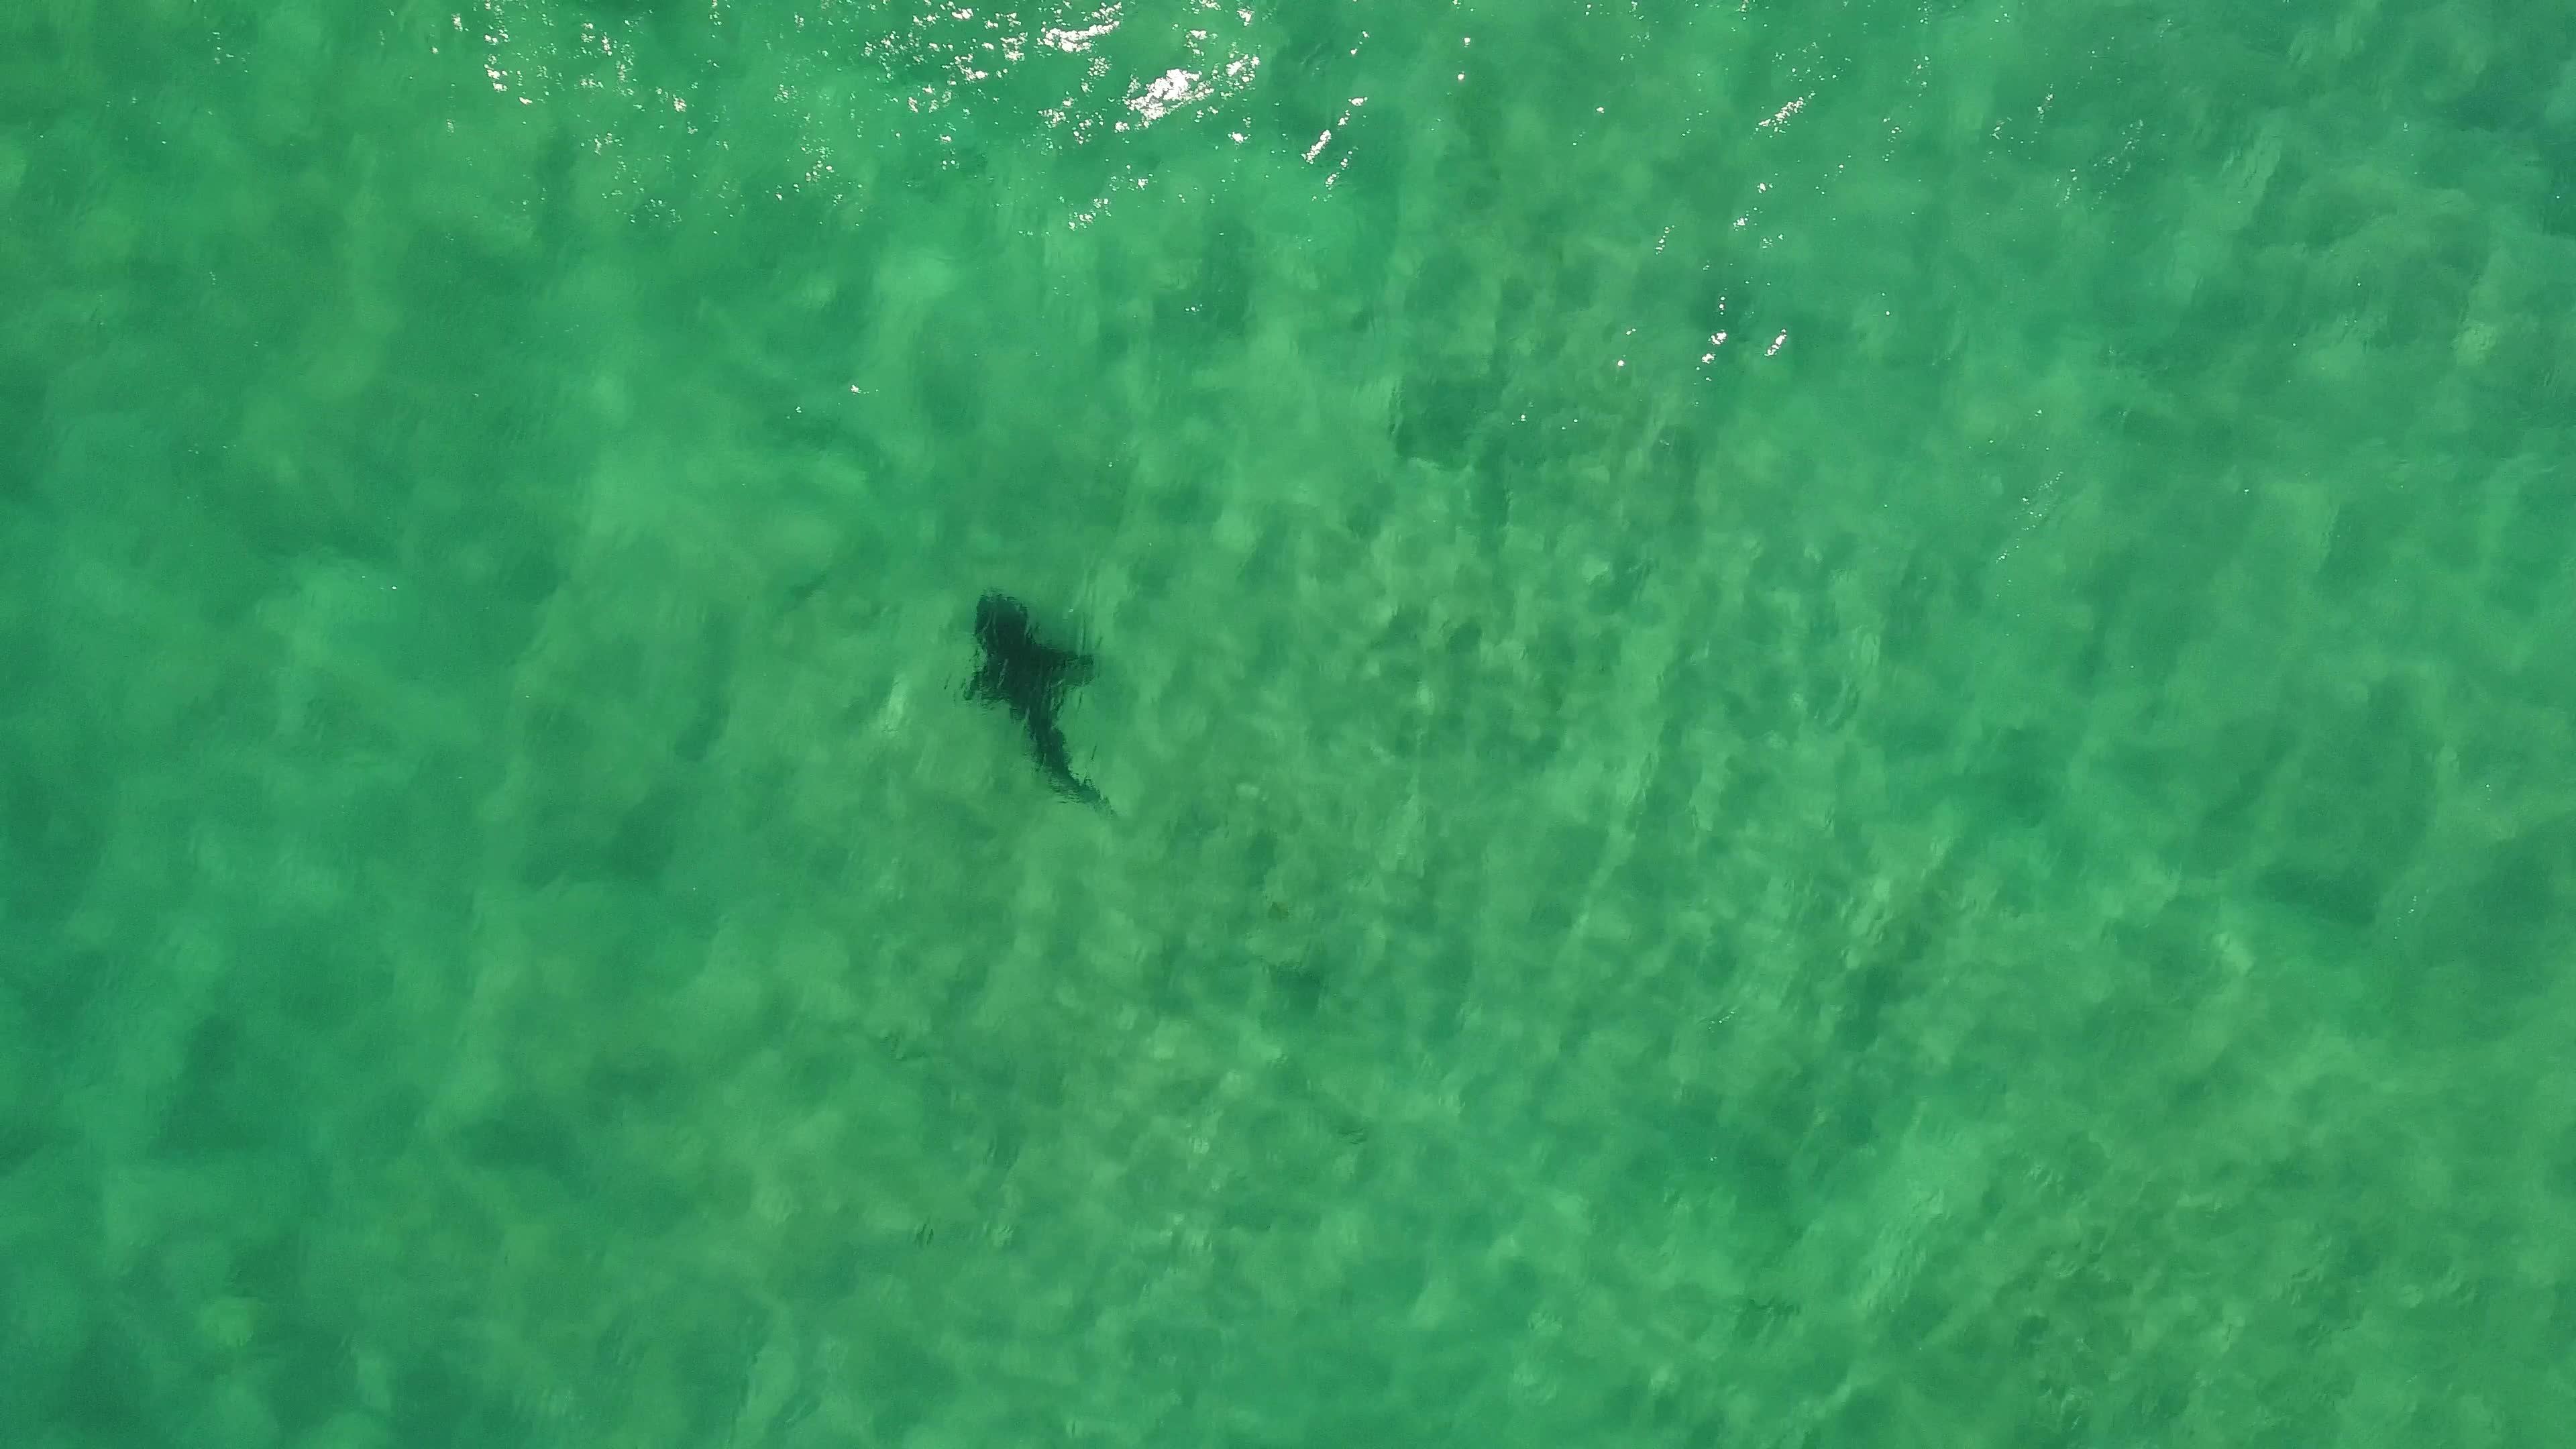shark: (954, 584, 1131, 828)
